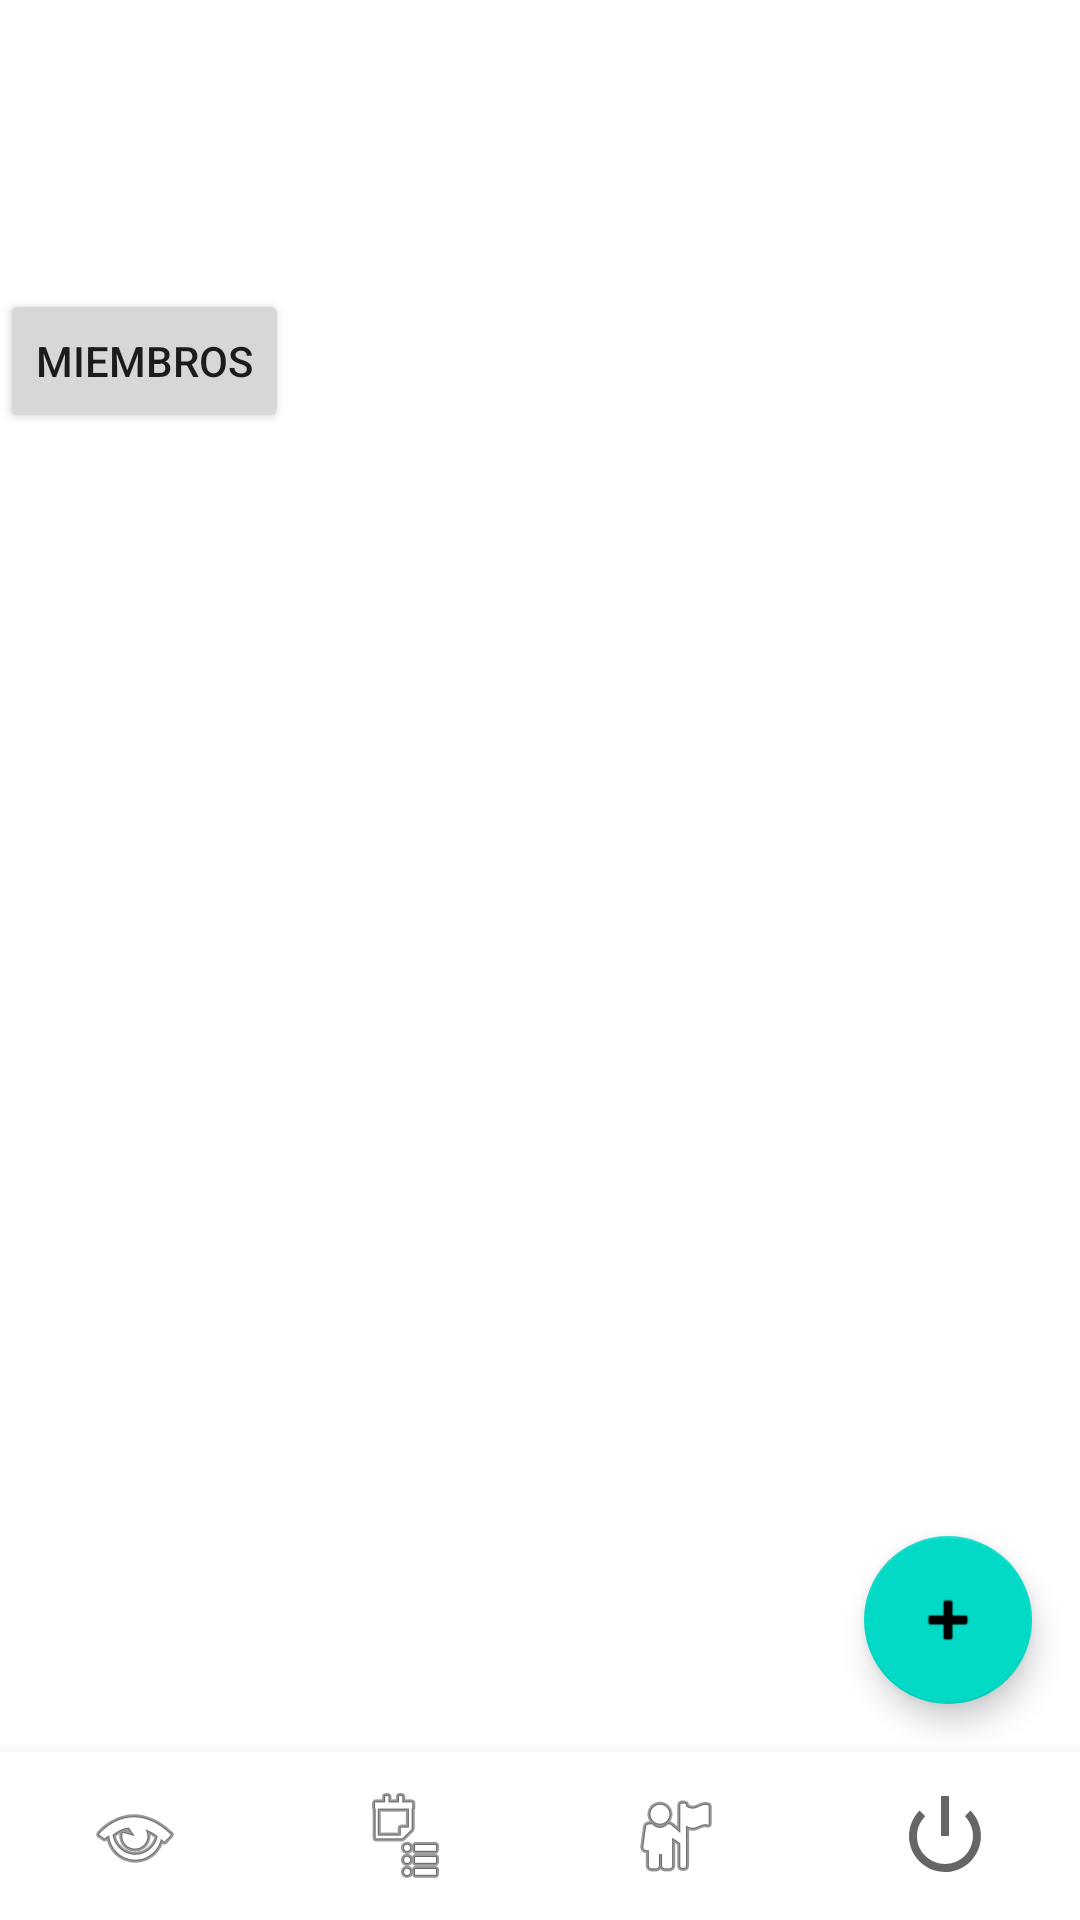

Where icons sit on this 1080×1920 app screen, as bbox(x1, y1, x2, y2):
add: bbox(864, 1536, 1032, 1704)
